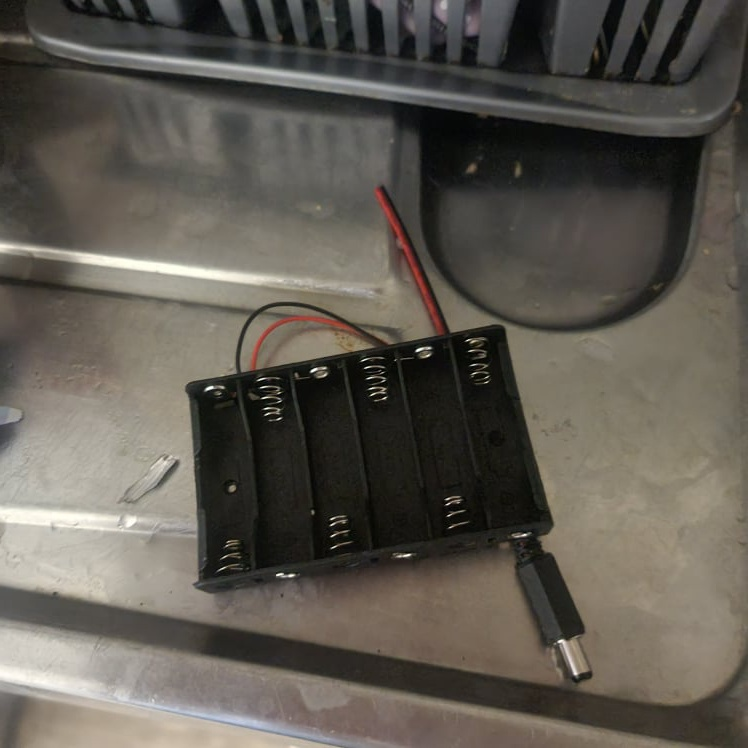BATTERY BOX: (183, 323, 548, 593)
